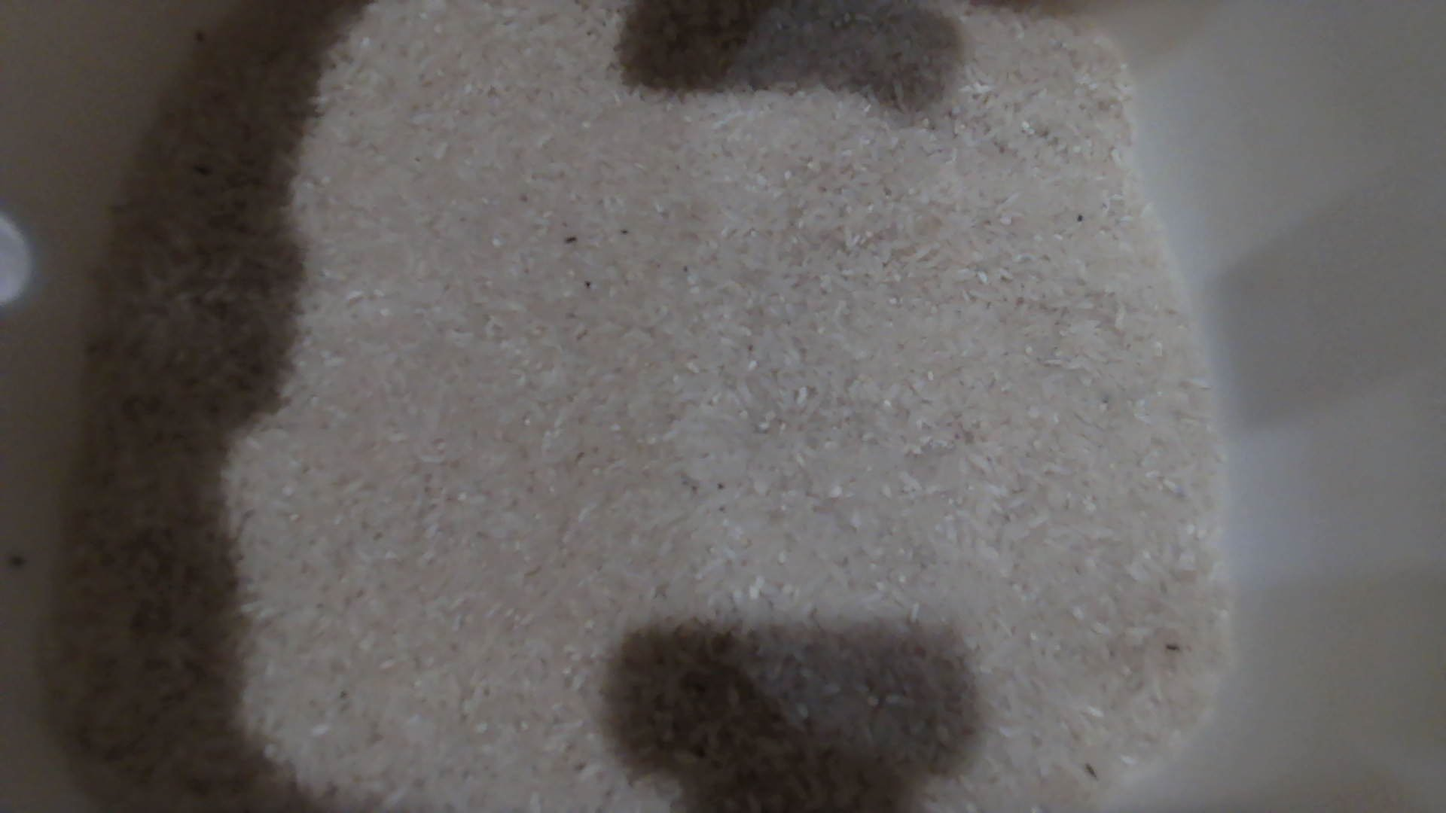Sitophilus-Oryzae: (1084, 763, 1097, 780), (1164, 643, 1182, 652), (566, 236, 576, 242), (584, 280, 591, 288)
